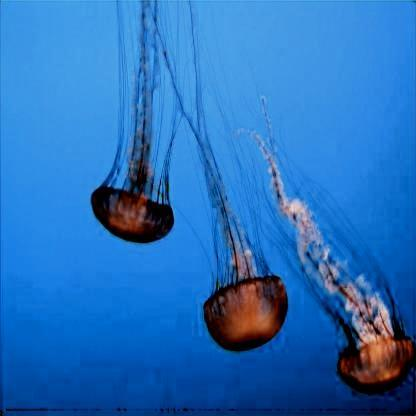Dressed: (190, 115, 286, 349), (93, 12, 175, 242)
